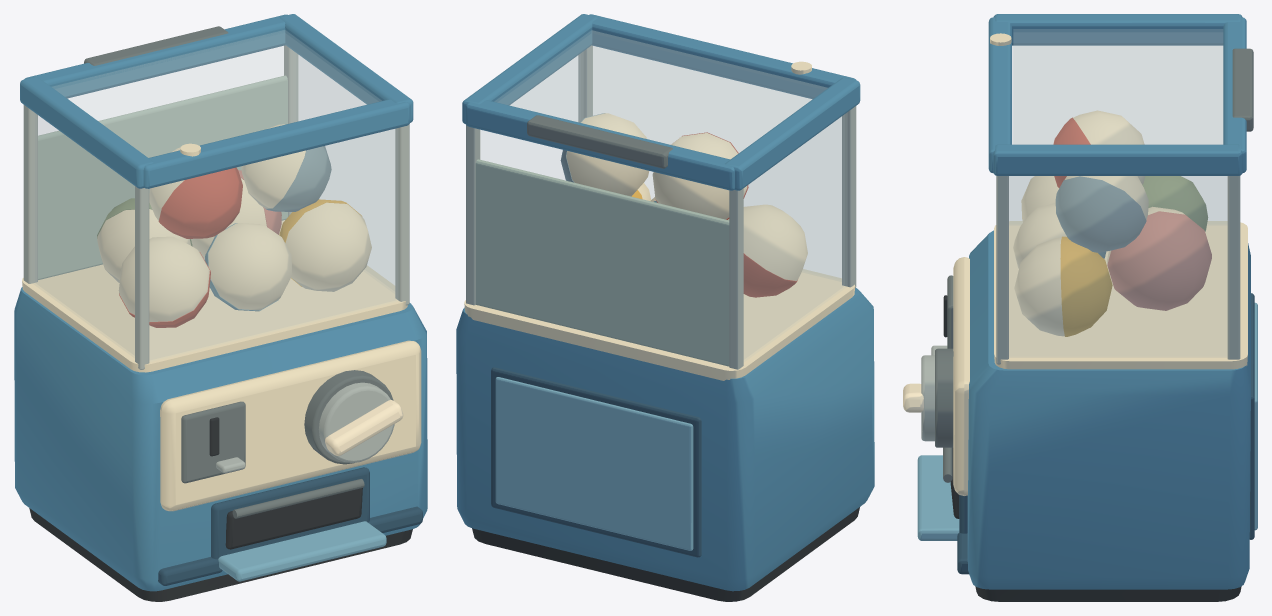
The model's file is 免费扭蛋.glb.
The picture shows the model from 3 angles, left to right: view 1: azimuth 30°, elevation 25°; view 2: azimuth 150°, elevation 25°; view 3: azimuth 270°, elevation 25°; orthographic projection. The views are drawn at different scales.
Visible parts, largest first — view 1: Asset_freechest; view 2: Asset_freechest; view 3: Asset_freechest.
Boxes of the visible parts, x1,y1,x2,y2 form: Asset_freechest: [14, 14, 427, 601]; Asset_freechest: [456, 14, 874, 601]; Asset_freechest: [903, 14, 1257, 601].
Size of the model in its own units: 2.95 by 4.2 by 2.98.
Materials: 2 (2 with a texture image).
